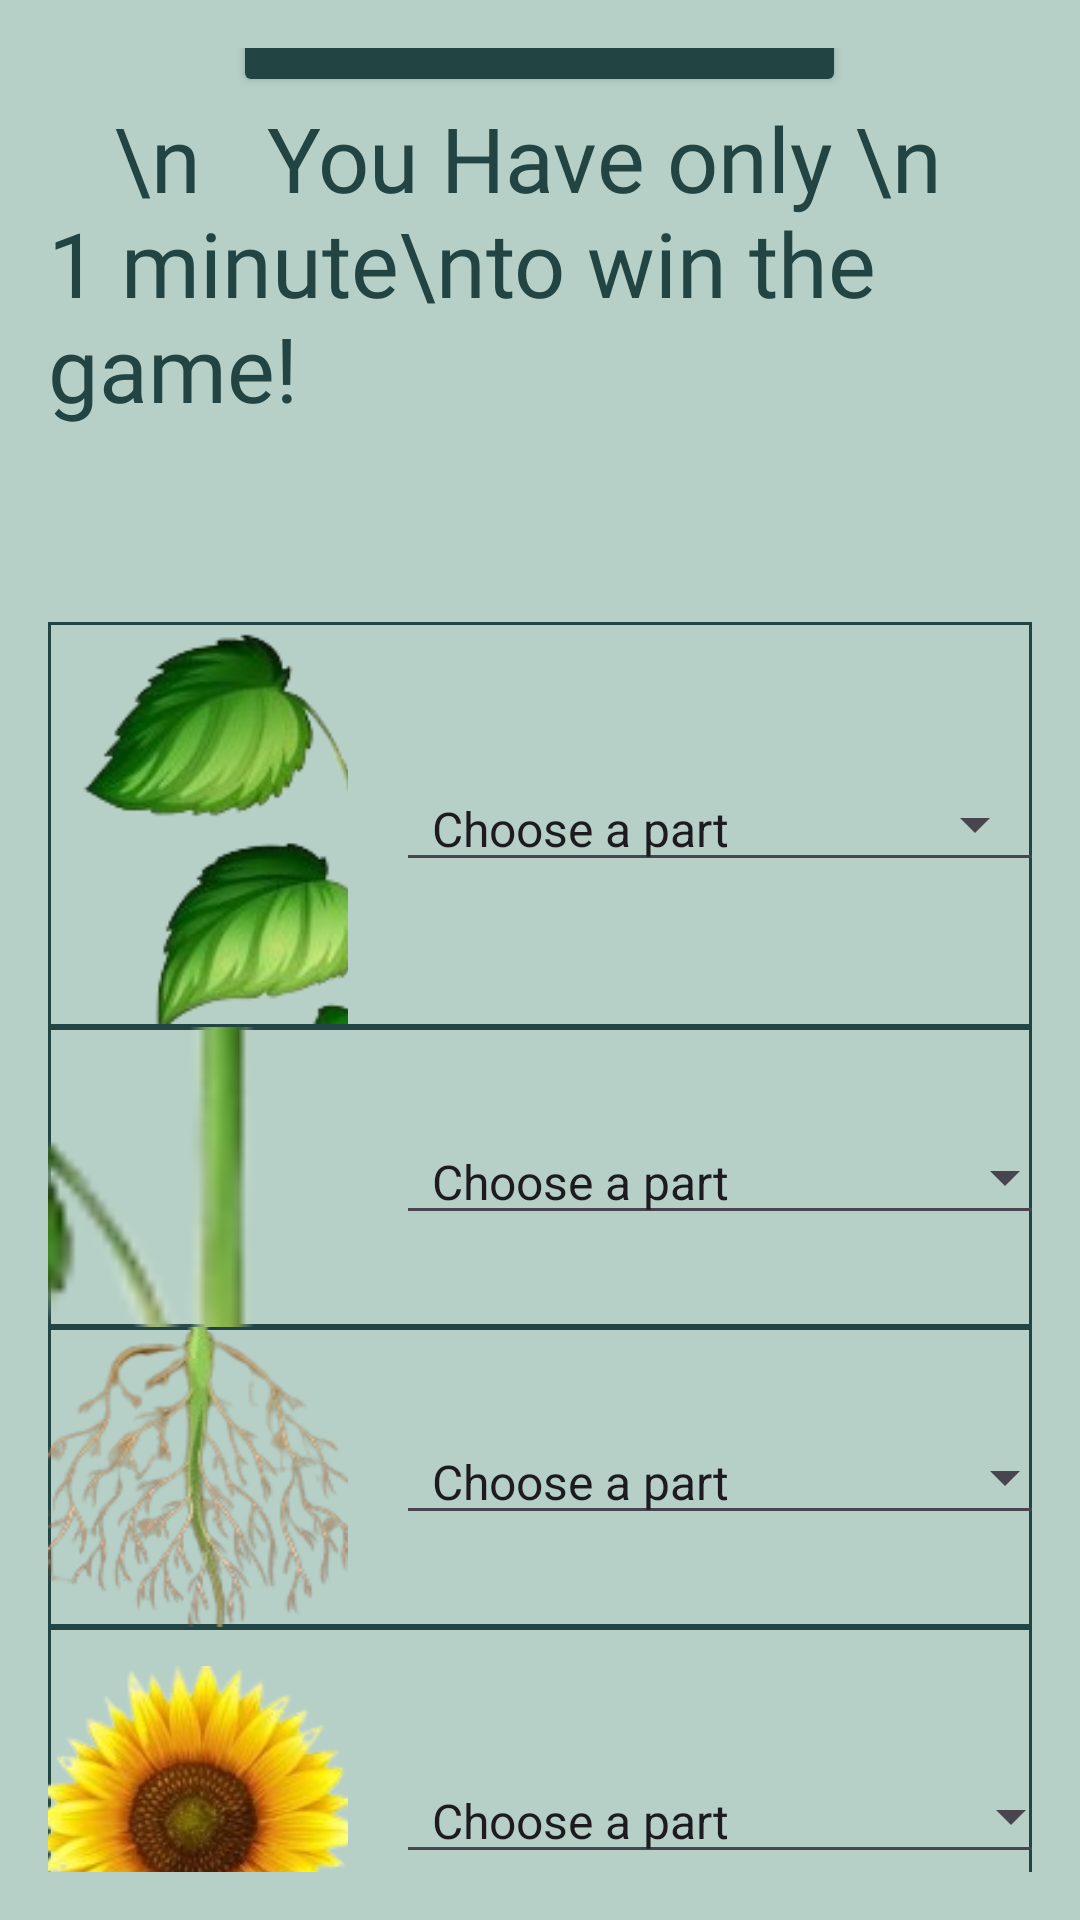

Icon click points for this 1080w x 1920h phone screenshot, format [x,y]:
Leaf: [216,725]
Roots: [198,1477]
Stem: [198,1177]
